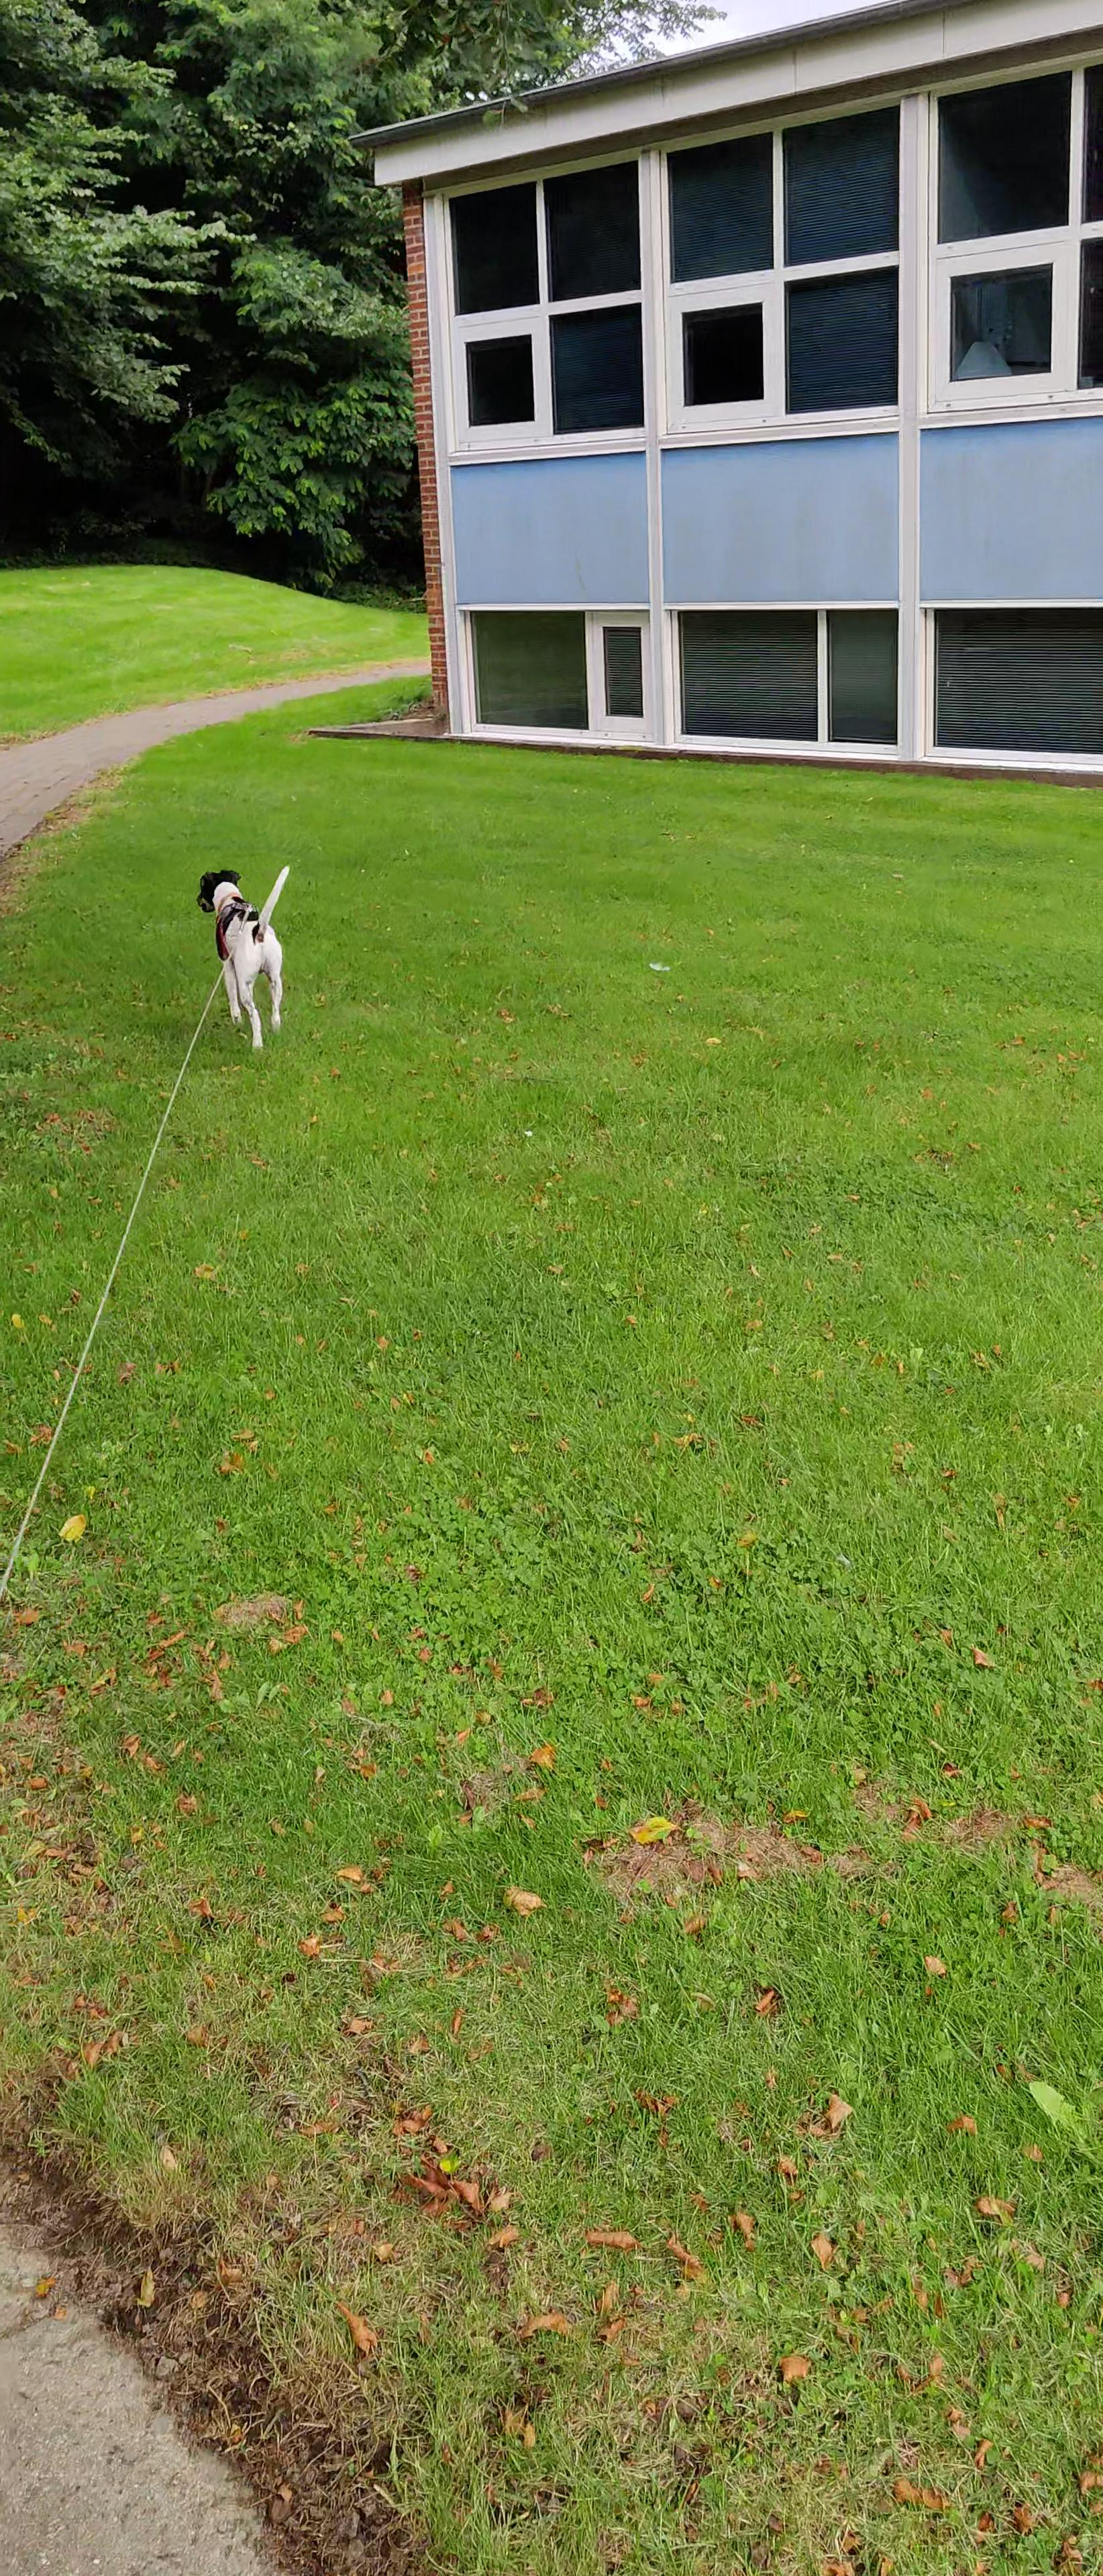Dog: (179, 849, 302, 1053)
